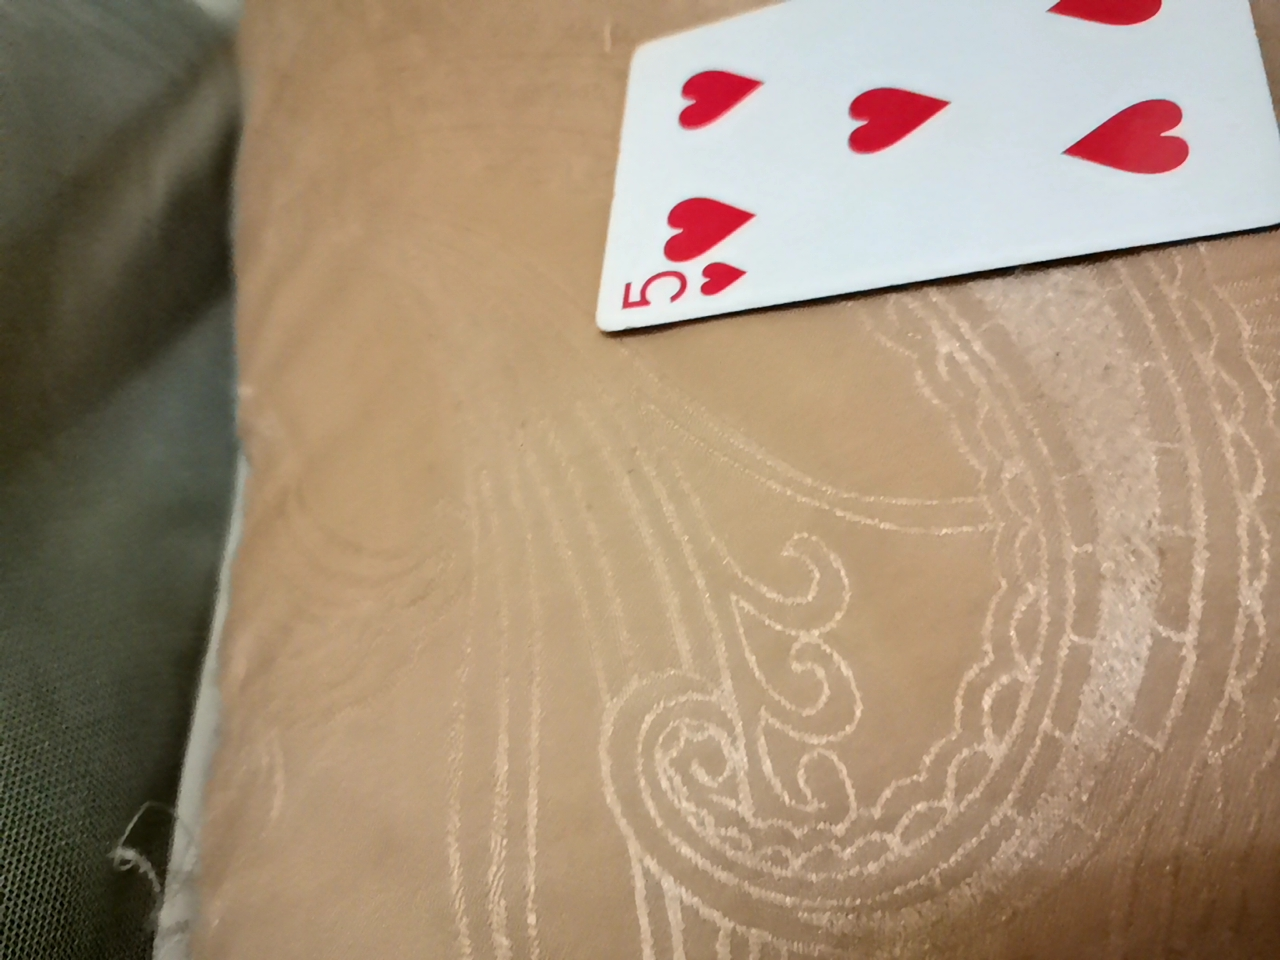hx 5: (569, 1, 1270, 361)
